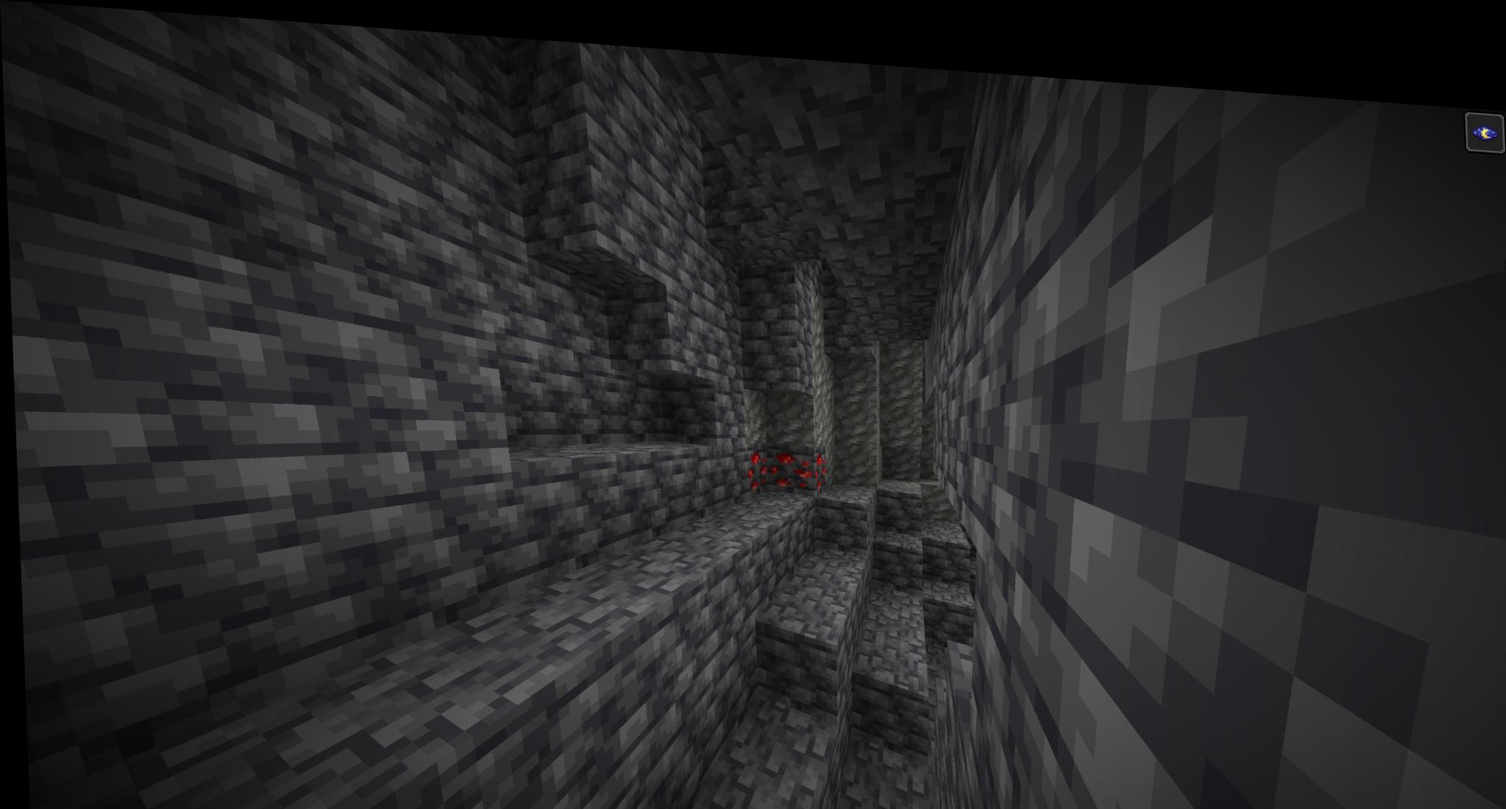redstone ore: (773, 436, 825, 483), (742, 439, 773, 485)
